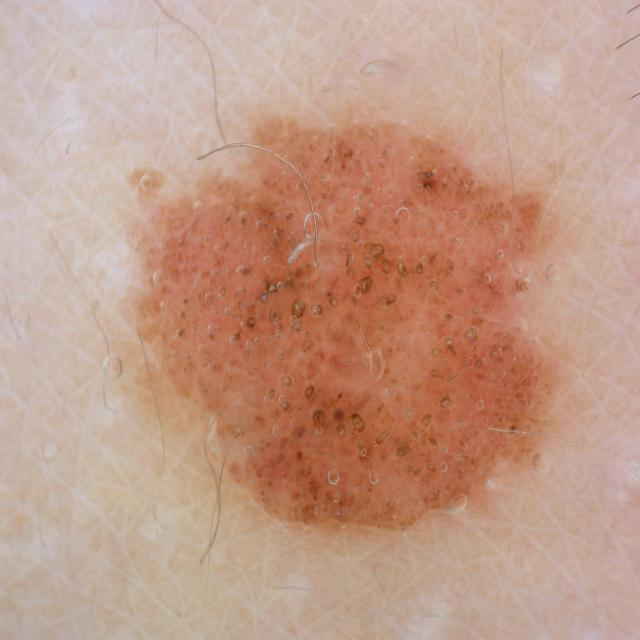Benign: (130, 121, 559, 536)
